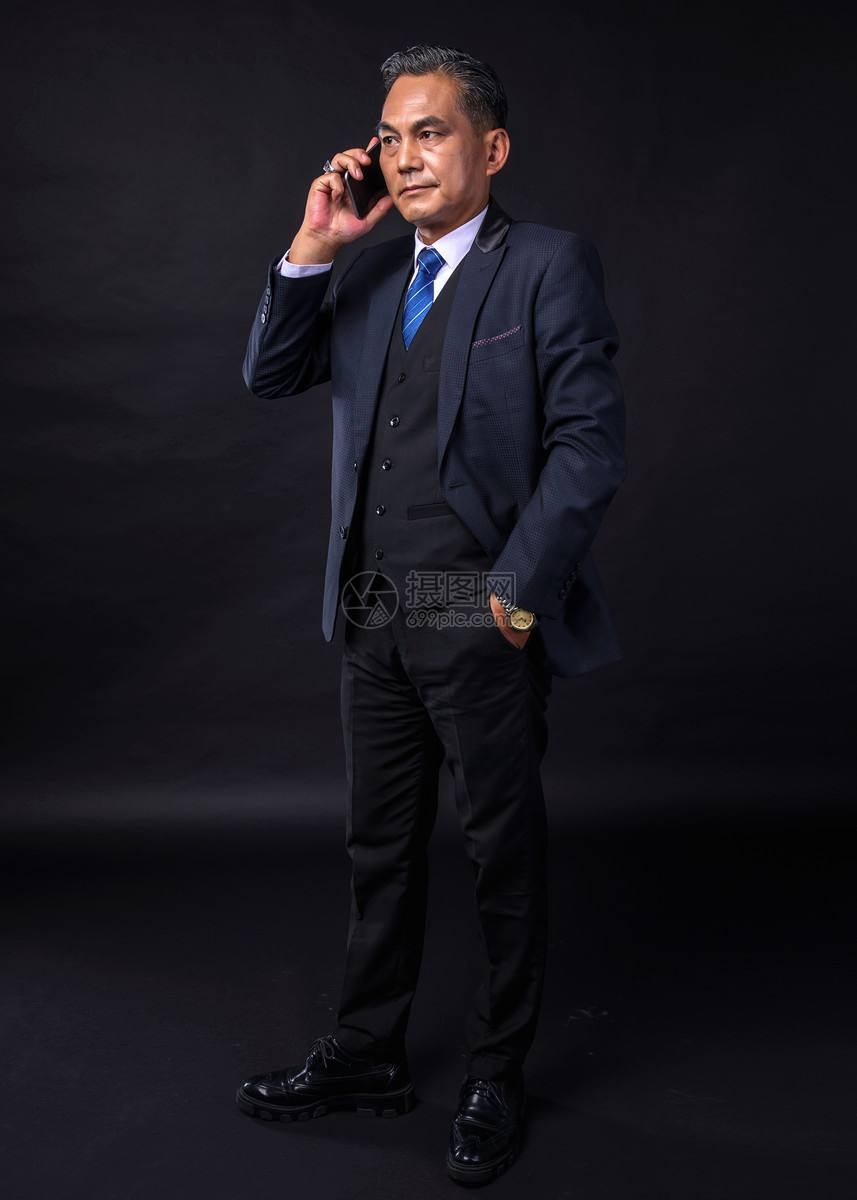calling: (291, 126, 396, 247)
